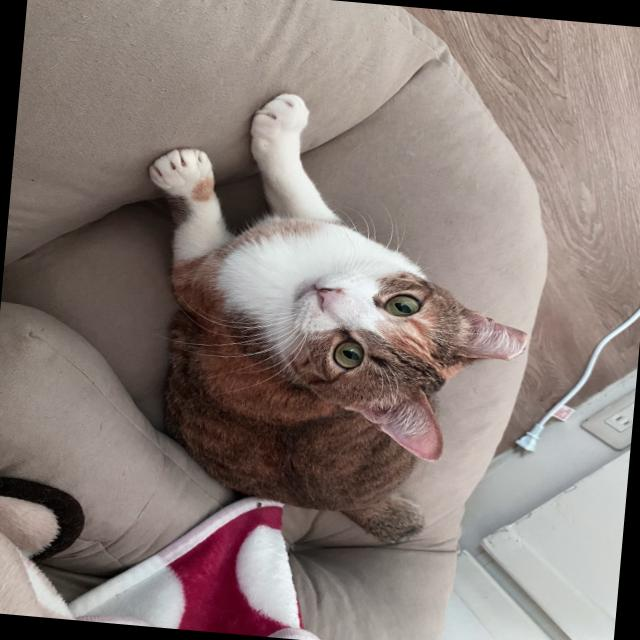cat2: (126, 76, 501, 544)
